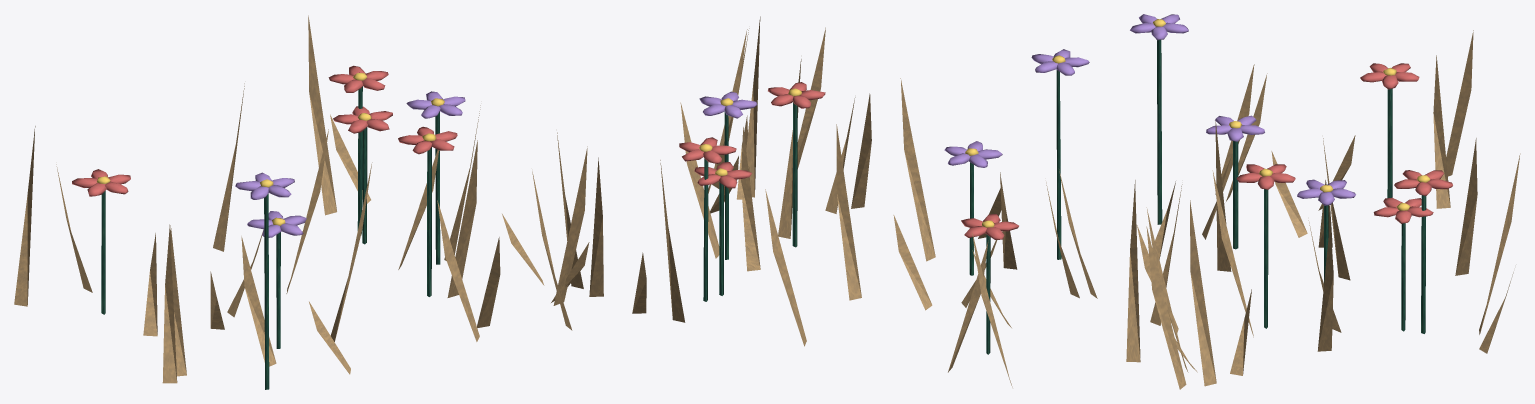
The model's file is flowers.glb.
The picture shows the model from 3 angles, left to right: view 1: azimuth 30°, elevation 25°; view 2: azimuth 150°, elevation 25°; view 3: azimuth 270°, elevation 25°; orthographic projection. The views are drawn at different scales.
Visible parts, largest first — view 1: flowers; view 2: flowers; view 3: flowers.
Part boxes in pixels (x1,y1,x2,y2): flowers: (14,15,603,389); flowers: (632,16,1097,387); flowers: (1126,14,1520,389).
Size of the model in its own units: 0.8619 by 0.3812 by 0.668.
1 material, 1 textured.
